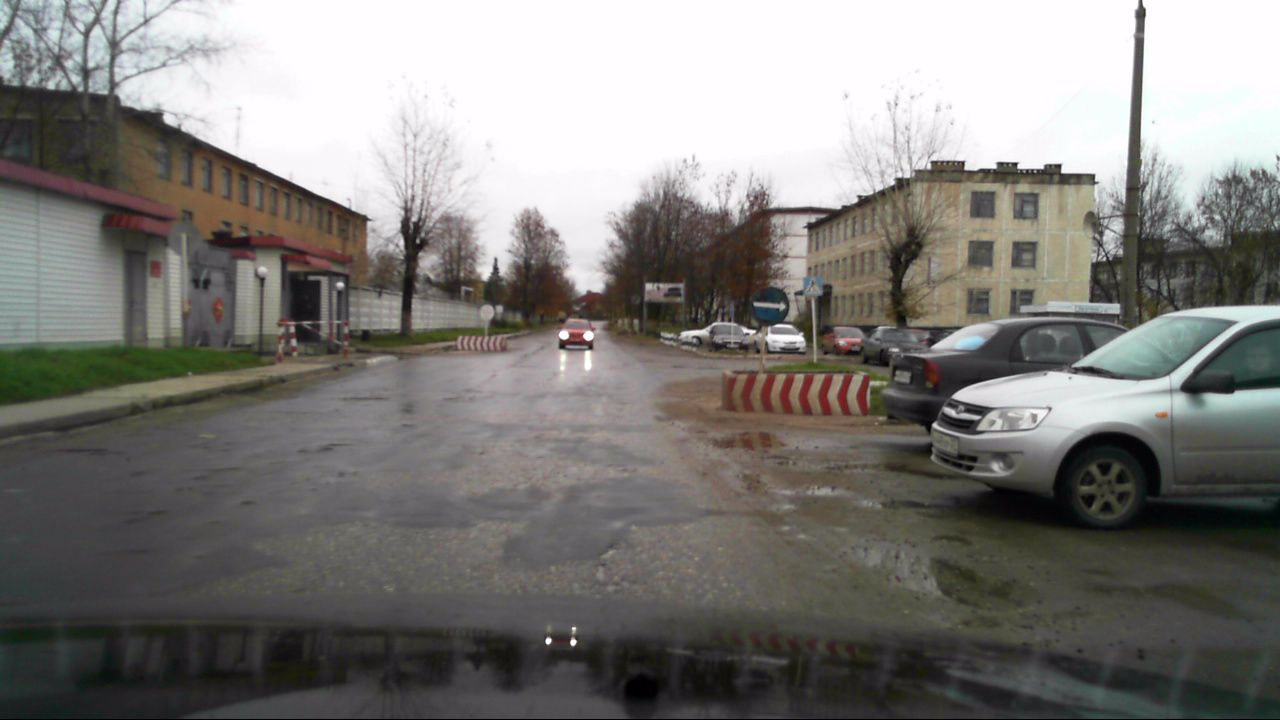Turn Right: (751, 287, 789, 323)
